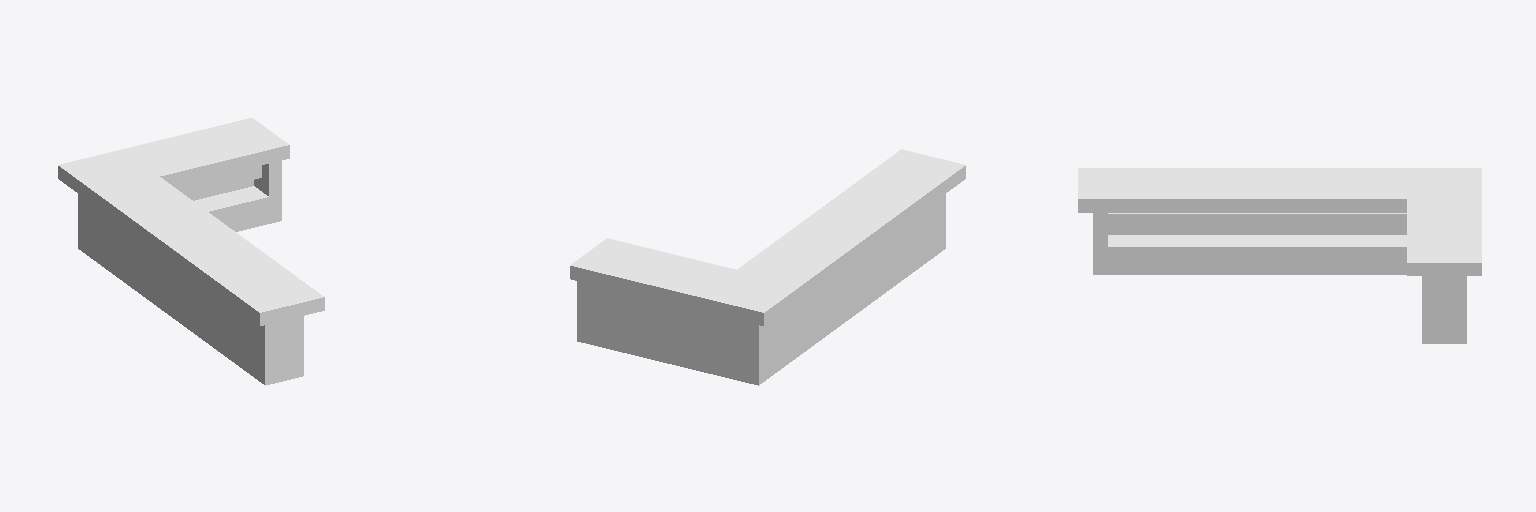
The model's file is dining.obj.
3 renders of one model, left to right at view 1: azimuth 30°, elevation 25°; view 2: azimuth 150°, elevation 25°; view 3: azimuth 270°, elevation 25°, orthographic.
Parts seen in each view (by area): view 1: object 1; view 2: object 1; view 3: object 1.
Part boxes in pixels (x1,y1,x2,y2): object 1: (58, 118, 324, 385); object 1: (570, 149, 965, 385); object 1: (1078, 168, 1481, 343).
Bounding box in the file's own units: 1.5 × 0.6 × 2.7.